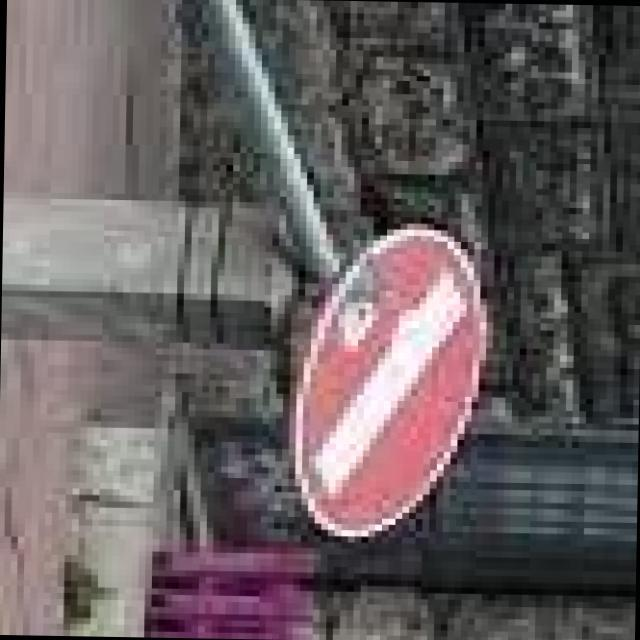obstructed_road_sign: (298, 225, 484, 536)
